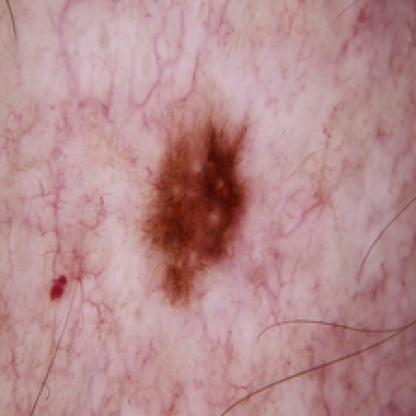Skin_Cancer-Malignant: (142, 105, 260, 311)
